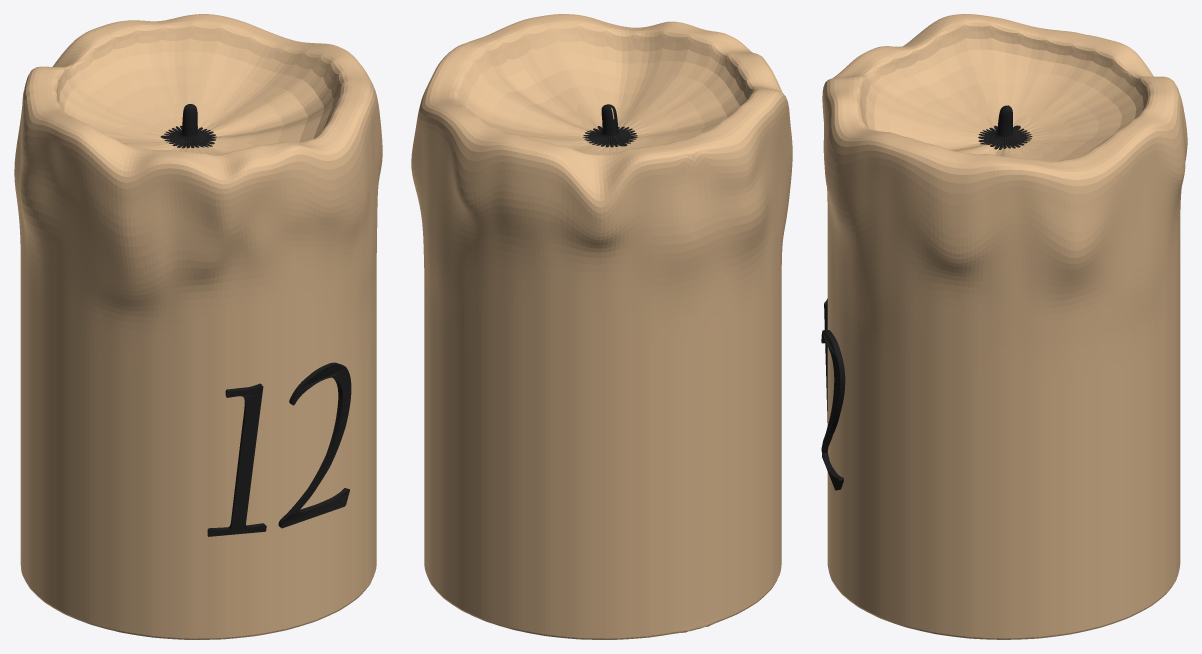
The model's file is Candle-12.fbx.
The picture shows the model from 3 angles, left to right: view 1: azimuth 30°, elevation 25°; view 2: azimuth 150°, elevation 25°; view 3: azimuth 270°, elevation 25°; orthographic projection.
Parts seen in each view (by area): view 1: Candle, Text; view 2: Candle; view 3: Candle, Text.
Boxes of the visible parts, x1,y1,x2,y2 form: Candle: (14, 14, 382, 639); Text: (207, 362, 351, 536); Candle: (411, 14, 792, 639); Candle: (822, 14, 1187, 639); Text: (821, 298, 845, 490).
Bounding box in the file's own units: 41.75 × 60.84 × 41.41.
